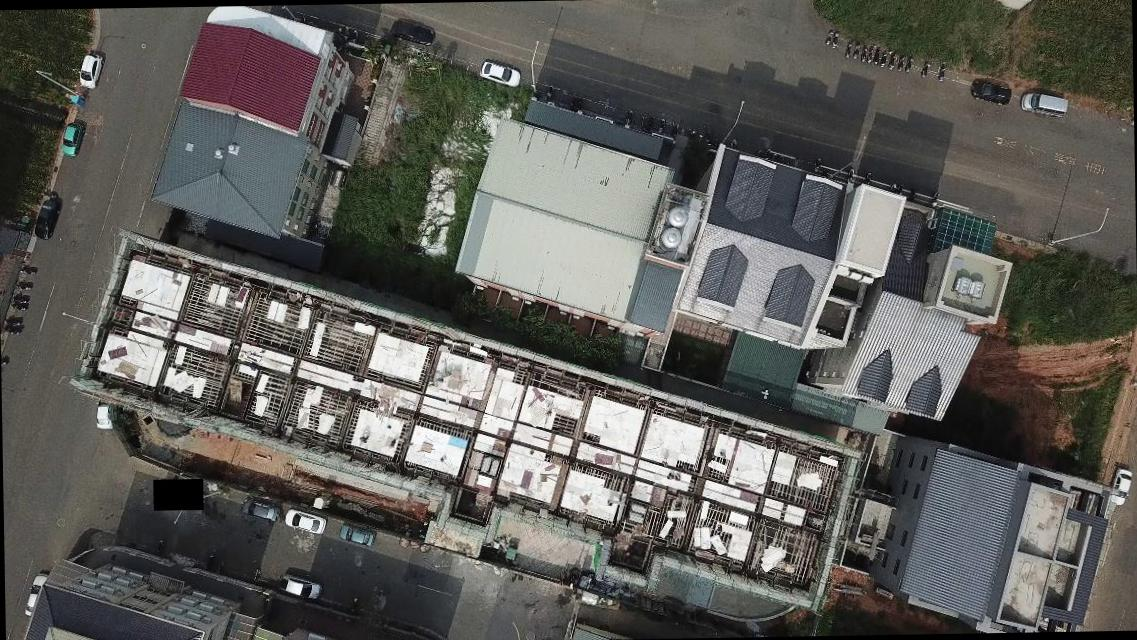vehicle: (390, 15, 436, 45), (477, 58, 520, 88), (32, 196, 59, 241), (1022, 90, 1068, 116), (284, 508, 326, 536), (277, 574, 319, 602), (969, 79, 1011, 106), (77, 52, 106, 90), (22, 574, 47, 614), (1108, 468, 1134, 506), (59, 120, 85, 156), (241, 499, 280, 522), (337, 524, 376, 547), (94, 401, 112, 432)
